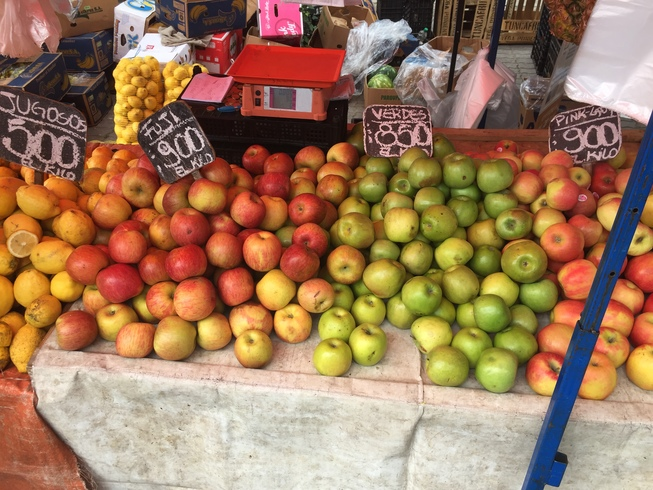precio: (1, 81, 92, 191), (547, 96, 644, 182), (132, 100, 222, 188), (359, 98, 440, 165)
